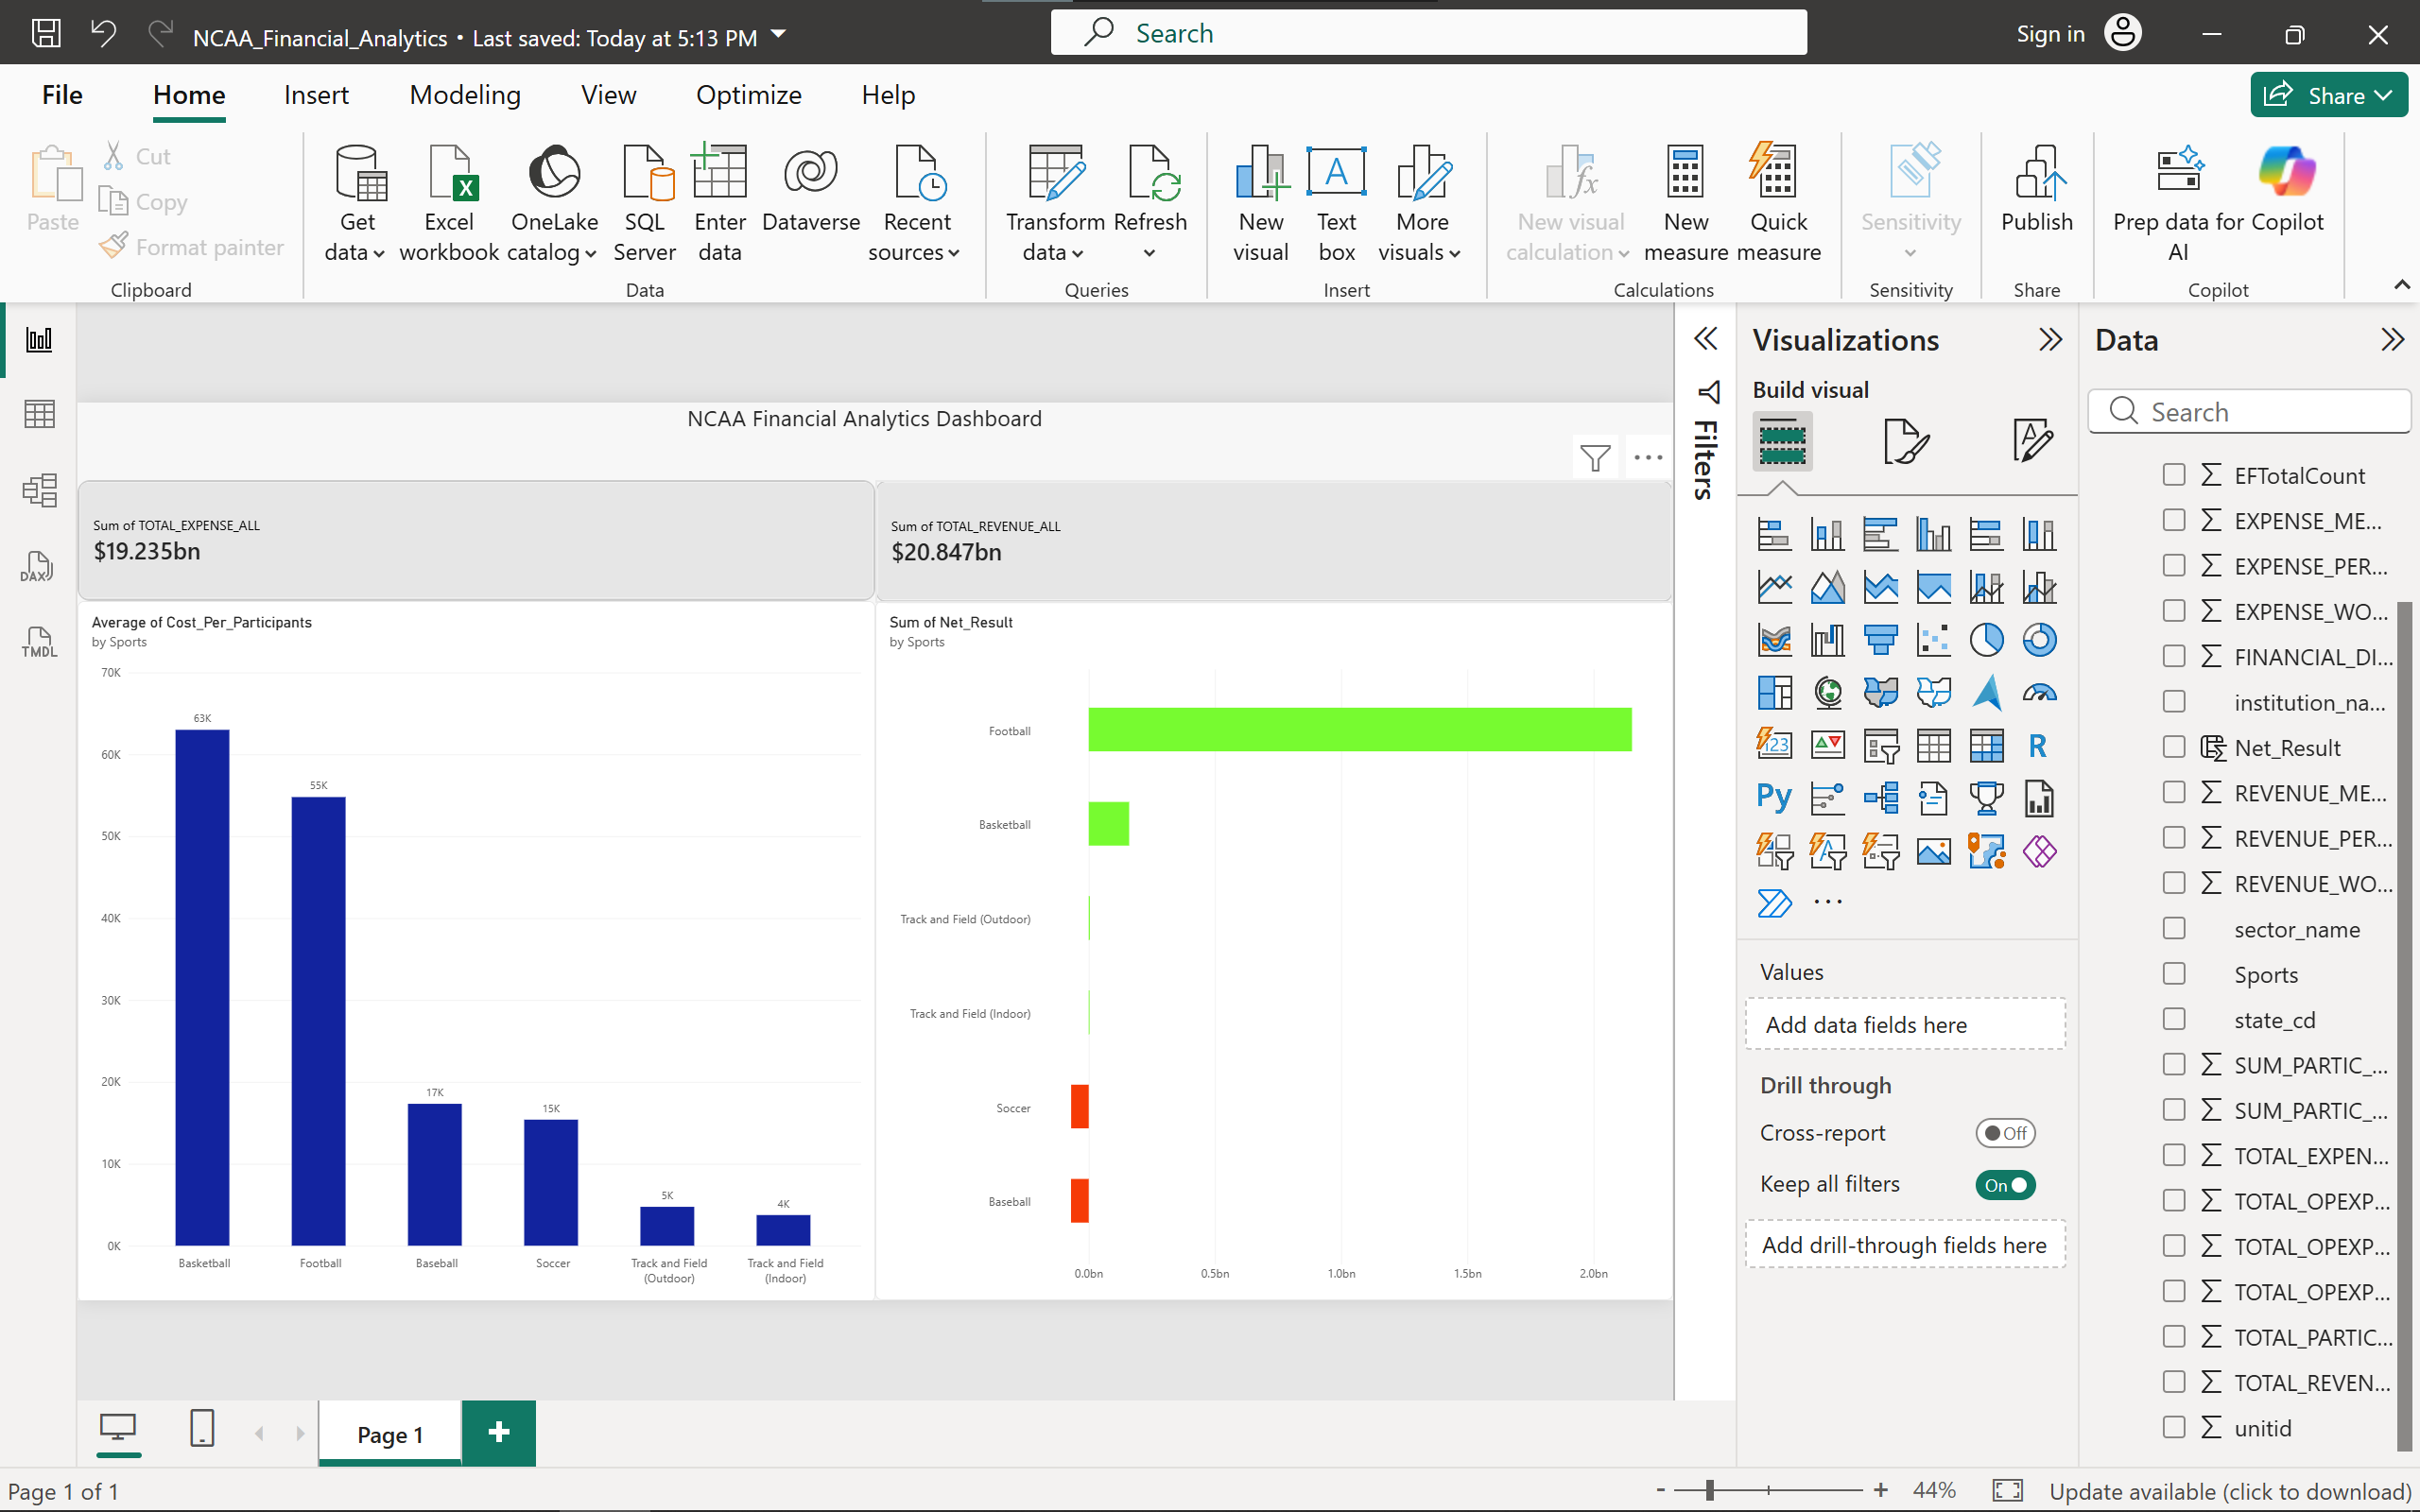

This screenshot's page, from the dashboard's own definition file:
{"tool":"powerbi","page":{"name":"Page 1","canvas":[1920,1080],"ordinal":0},"visuals":[{"type":"clusteredBarChart","fields":{"Category":["schools_cleaned.Sports"],"Y":["Sum(schools_cleaned.Net_Result)"]},"box":[960,238.9,960,841.7],"z":0},{"type":"clusteredColumnChart","fields":{"Category":["schools_cleaned.Sports"],"Y":["Avg(schools_cleaned.Cost_Per_Participants)"]},"box":[0,238.9,960,844],"z":1000},{"type":"cardVisual","fields":{"Data":["Sum(schools_cleaned.TOTAL_REVENUE_ALL)"]},"box":[960,93.3,960,147.9],"z":1001},{"type":"cardVisual","fields":{"Data":["Sum(schools_cleaned.TOTAL_EXPENSE_ALL)"]},"box":[0,93.3,960,145.6],"z":1002},{"type":"textbox","box":[730.2,0,434.5,93.3],"z":1003}]}

Visuals, with their boxes on the page's 1920x1080 design canvas (x1, y1, x2, y2). These are canvas units, not pixel positions in the 2420x1512 screenshot, which may show the page scaled, cropped or inside an application window:
clusteredBarChart - schools_cleaned.Sports x Sum(schools_cleaned.Net_Result): {"left": 960, "top": 239, "right": 1920, "bottom": 1081}
clusteredColumnChart - schools_cleaned.Sports x Avg(schools_cleaned.Cost_Per_Participants): {"left": 0, "top": 239, "right": 960, "bottom": 1083}
cardVisual - Sum(schools_cleaned.TOTAL_REVENUE_ALL): {"left": 960, "top": 93, "right": 1920, "bottom": 241}
cardVisual - Sum(schools_cleaned.TOTAL_EXPENSE_ALL): {"left": 0, "top": 93, "right": 960, "bottom": 239}
textbox: {"left": 730, "top": 0, "right": 1165, "bottom": 93}
